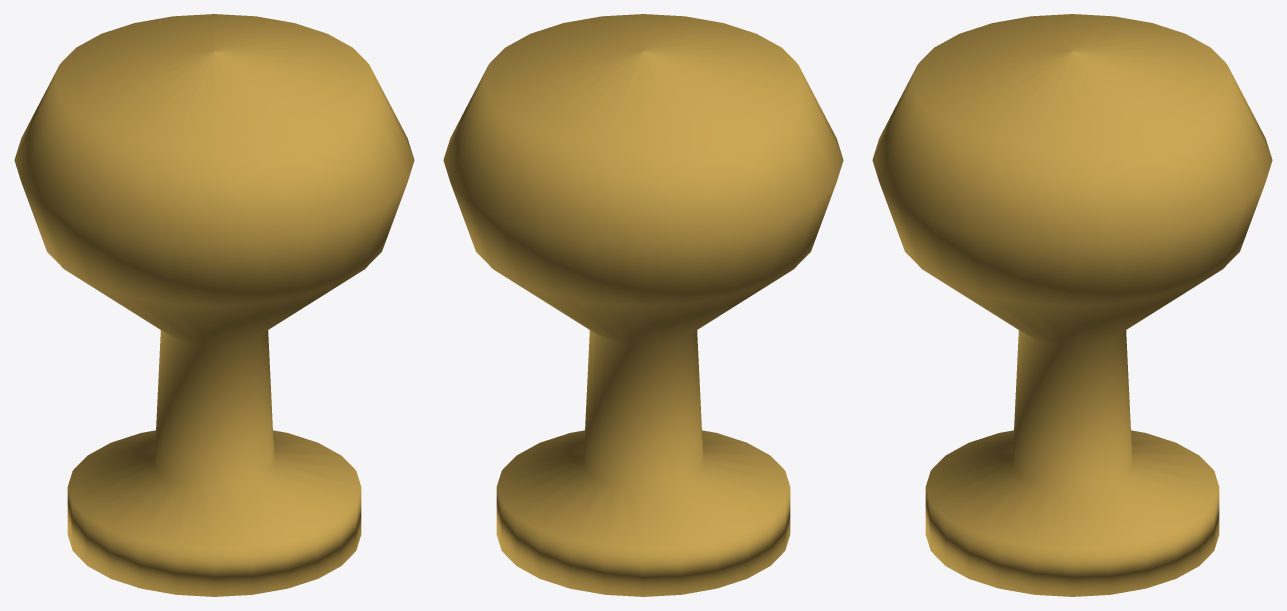
File: knob.glb
3 views of the same model, side by side, from view 1: azimuth 30°, elevation 25°; view 2: azimuth 150°, elevation 25°; view 3: azimuth 270°, elevation 25° (orthographic).
Visible parts, largest first — view 1: Knob; view 2: Knob; view 3: Knob.
Boxes of the visible parts, x1=… form: Knob: x1=14, y1=14, x2=414, y2=596; Knob: x1=443, y1=14, x2=843, y2=596; Knob: x1=872, y1=14, x2=1272, y2=596.
Bounding box in the file's own units: 0.06 × 0.08 × 0.06.
